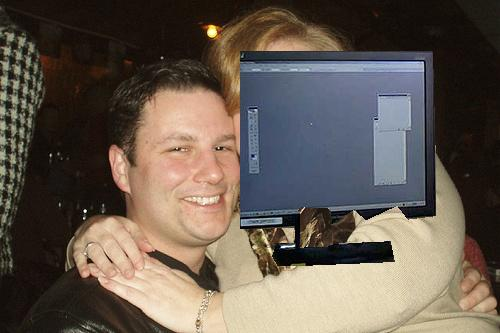tampered: (241, 52, 436, 266)
